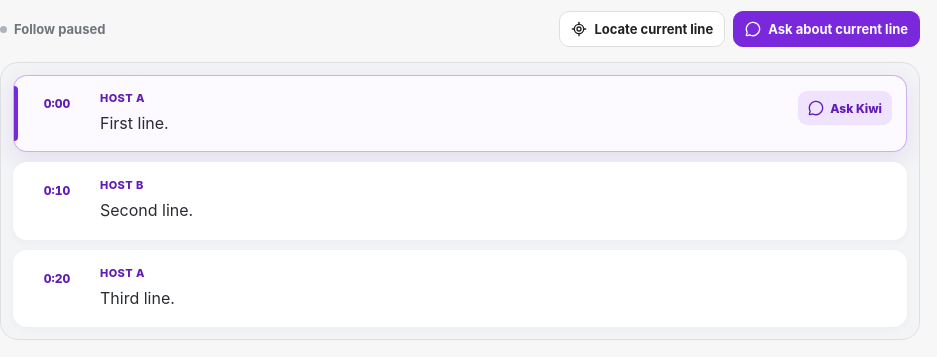
Scenario: TranscriptReader › pauses follow mode after manual scrolling and restores it with Locate
Expected: the text "Follow paused" is shown, [0,21,105,37]
Step 1. Click the button "Locate current line" → (642, 29), box [559,11,725,47]
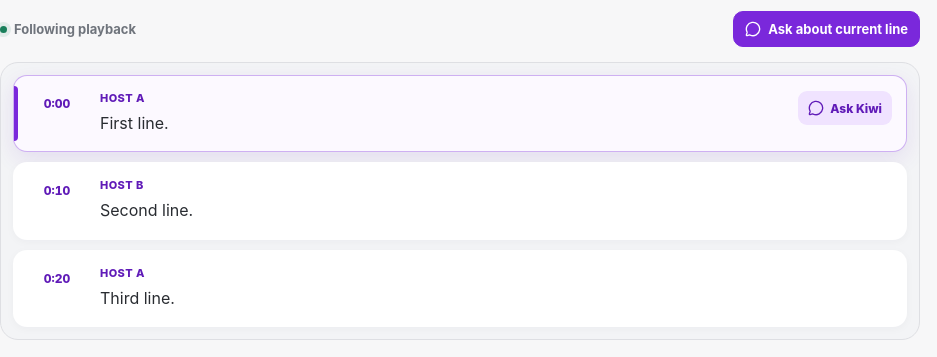
Expected: the text "Following playback" is shown, [0,21,136,37]
